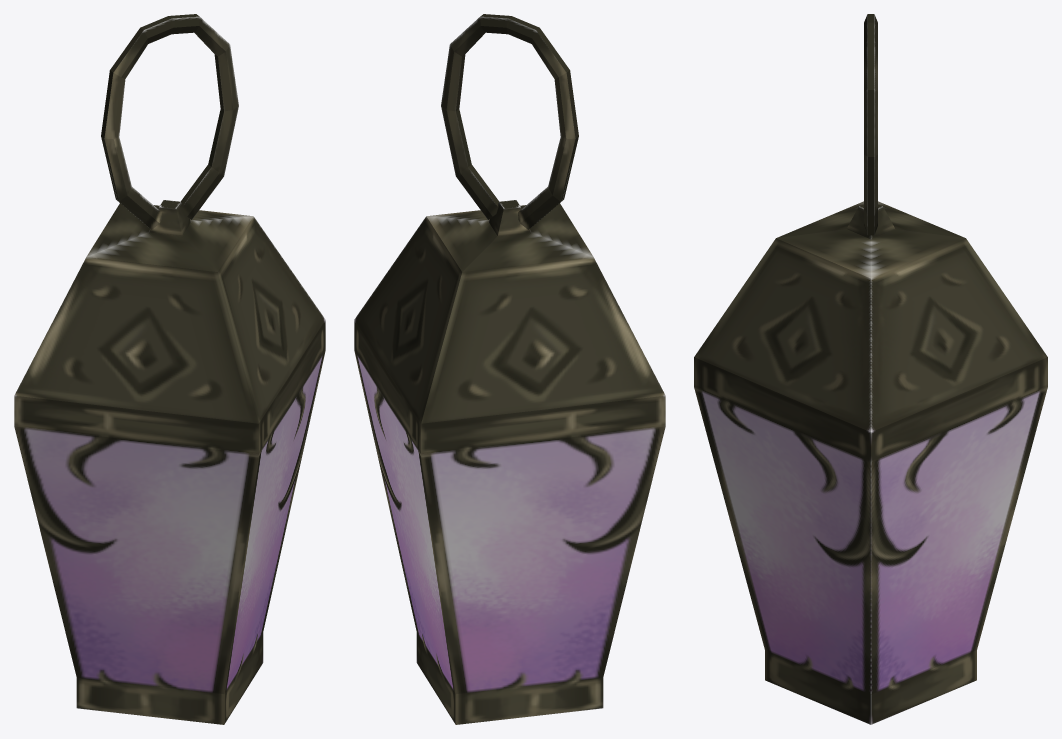
The model's file is Lanterna.fbx.
3 views of the same model, side by side, from view 1: azimuth 30°, elevation 25°; view 2: azimuth 150°, elevation 25°; view 3: azimuth 270°, elevation 25° (orthographic).
Parts seen in each view (by area): view 1: Lantern; view 2: Lantern; view 3: Lantern.
Part boxes in pixels (x1,y1,x2,y2): Lantern: (14,14,325,724); Lantern: (354,14,665,724); Lantern: (694,14,1047,724).
Size of the model in its own units: 31.12 by 63.83 by 31.13.
